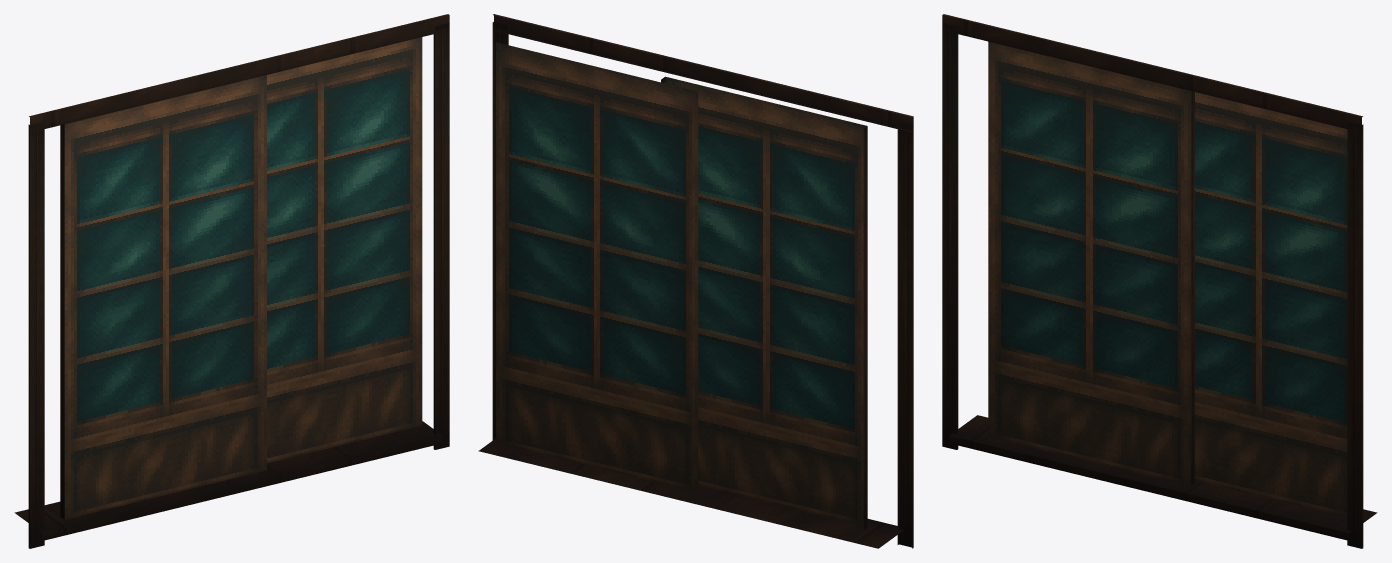
File: prop_sash-16-16-4.glb
3 renders of one model, left to right at view 1: azimuth 30°, elevation 25°; view 2: azimuth 150°, elevation 25°; view 3: azimuth 330°, elevation 25°, orthographic.
Visible parts, largest first — view 1: prop_sash-16-16-4; view 2: prop_sash-16-16-4; view 3: prop_sash-16-16-4.
Boxes of the visible parts, <box> form: prop_sash-16-16-4: <box>14,14,449,548</box>; prop_sash-16-16-4: <box>478,14,913,548</box>; prop_sash-16-16-4: <box>942,14,1377,548</box>.
Size of the model in its own units: 1.72 by 1.69 by 0.2.
2 materials, 2 textured.
